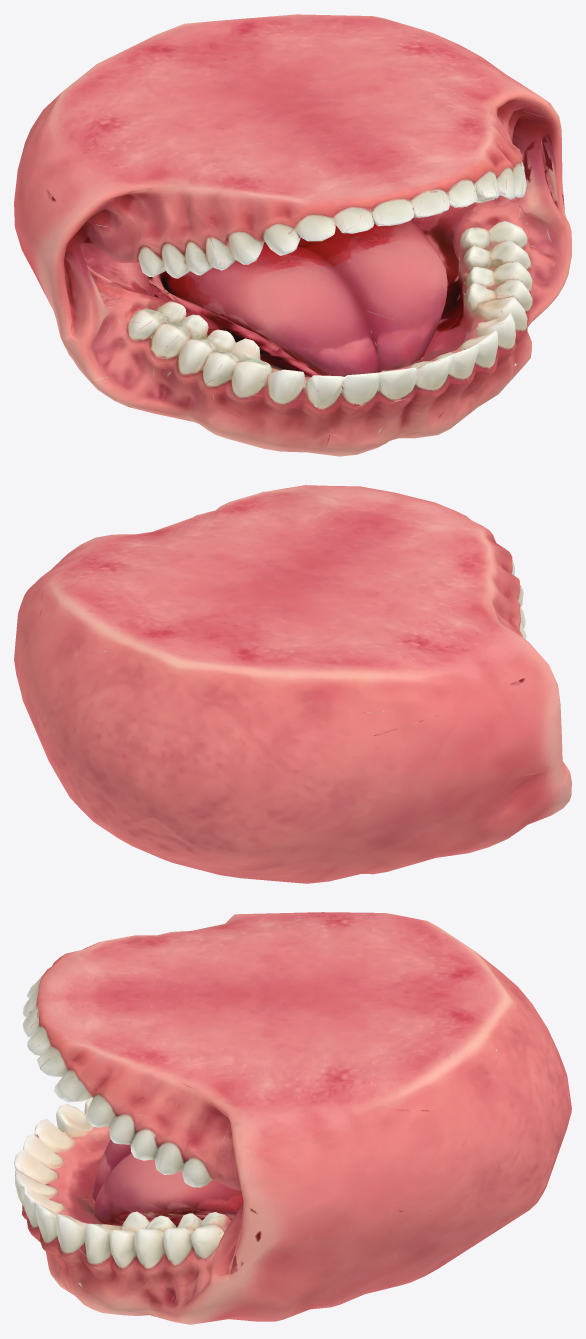
Rendered from inside-the-mouth.glb.
3 views of the same model, one above another, from view 1: azimuth 30°, elevation 25°; view 2: azimuth 150°, elevation 25°; view 3: azimuth 270°, elevation 25° (orthographic). The views are drawn at different scales.
Visible parts, largest first — view 1: Mesh1.0; view 2: Mesh1.0; view 3: Mesh1.0.
Part boxes in pixels (x1,y1,x2,y2): Mesh1.0: (14,14,571,456); Mesh1.0: (14,485,571,883); Mesh1.0: (14,912,571,1324).
Bounding box in the file's own units: 1.91 × 0.983 × 1.76.
1 material, 1 textured.
